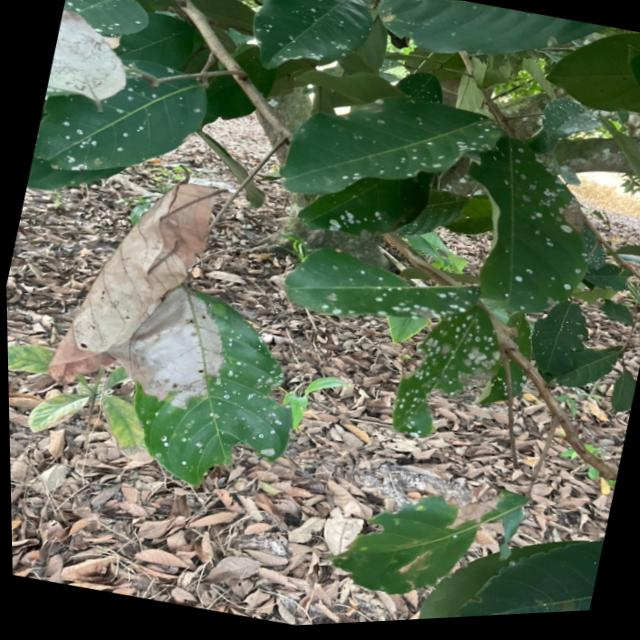Algal Leaf Spot: (356, 102, 640, 456), (31, 0, 247, 184)
